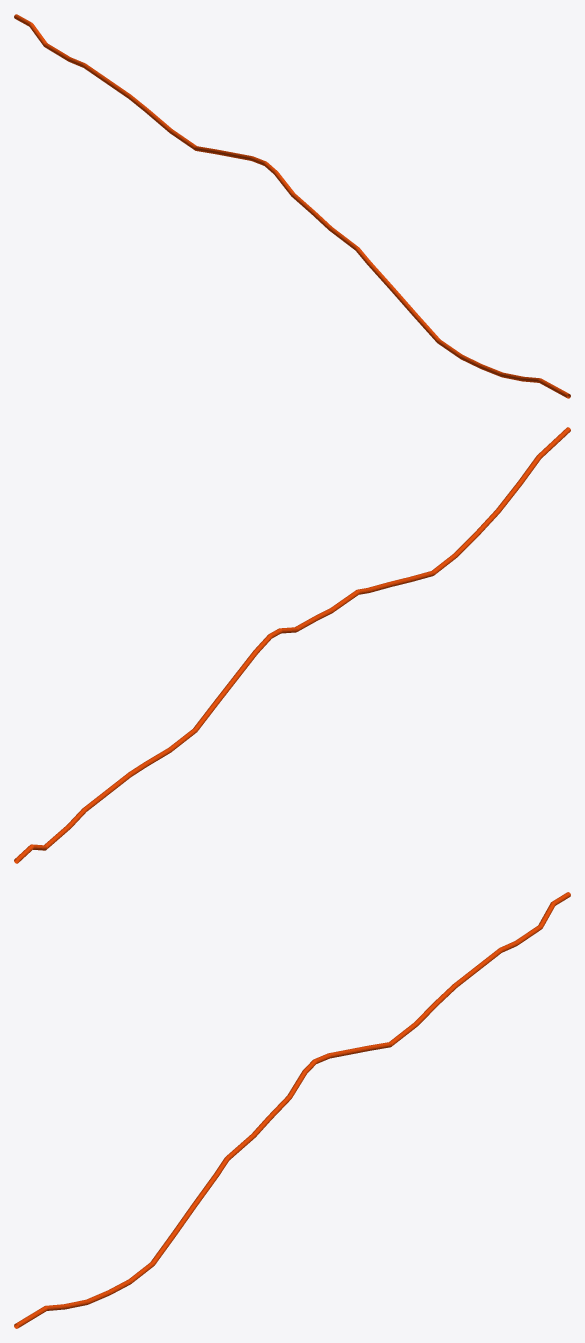
File: Cable15.fbx
3 views of the same model, one above another, from view 1: azimuth 30°, elevation 25°; view 2: azimuth 150°, elevation 25°; view 3: azimuth 330°, elevation 25° (orthographic). The views are drawn at different scales.
Parts seen in each view (by area): view 1: Vert.014; view 2: Vert.014; view 3: Vert.014.
Boxes of the visible parts, <box> form: Vert.014: <box>14,14,570,398</box>; Vert.014: <box>14,427,570,863</box>; Vert.014: <box>14,892,570,1328</box>.
Bounding box in the file's own units: 13.76 × 29.86 × 421.
